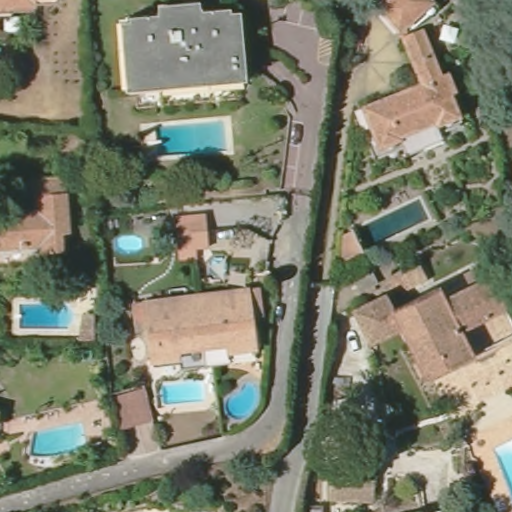pool: (358, 195, 432, 250), (153, 116, 233, 157), (15, 297, 84, 333), (29, 421, 88, 455), (157, 375, 209, 406), (225, 383, 264, 420), (494, 436, 512, 495), (113, 234, 150, 254)
